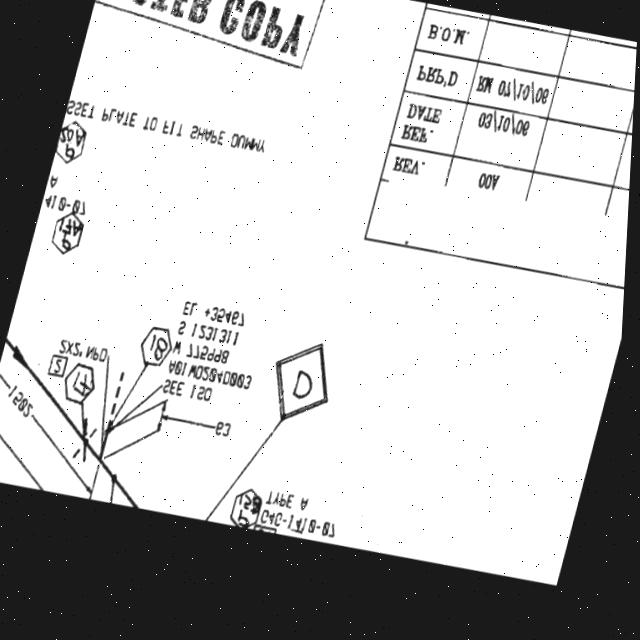Item number: (49, 354, 72, 381)
Measrement: (0, 363, 95, 493), (104, 367, 133, 438)
Pipeline: (6, 327, 142, 505)
Weld number: (48, 204, 92, 263), (137, 323, 179, 371), (55, 119, 92, 170)
other: (65, 90, 276, 156), (161, 300, 273, 416), (256, 486, 353, 545), (474, 61, 557, 113), (58, 336, 114, 366)
